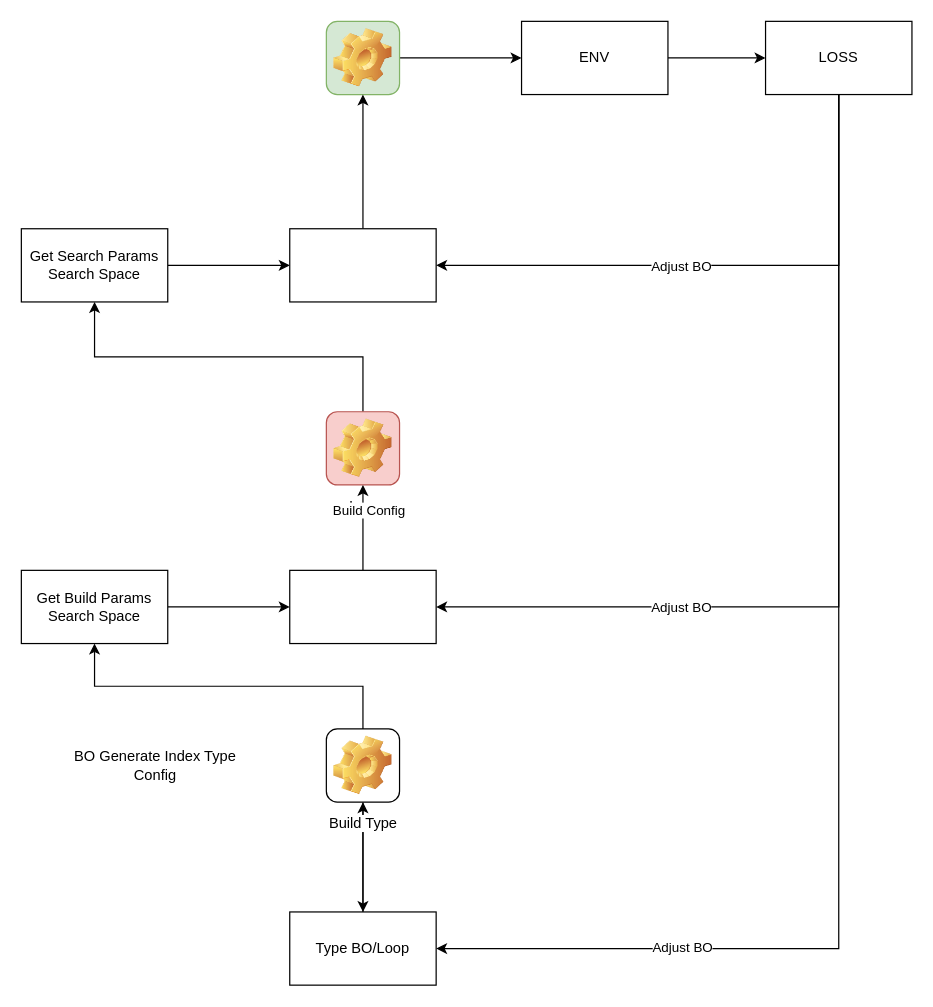
This 933x1007 diagram has some shape labels left out. Here are the shapes that lost their labels. From the top down, the centre of each, then its label:
At (x=362, y=57): "Seach Config".
At (x=362, y=265): "Search BO".
At (x=362, y=606): "Build BO".
